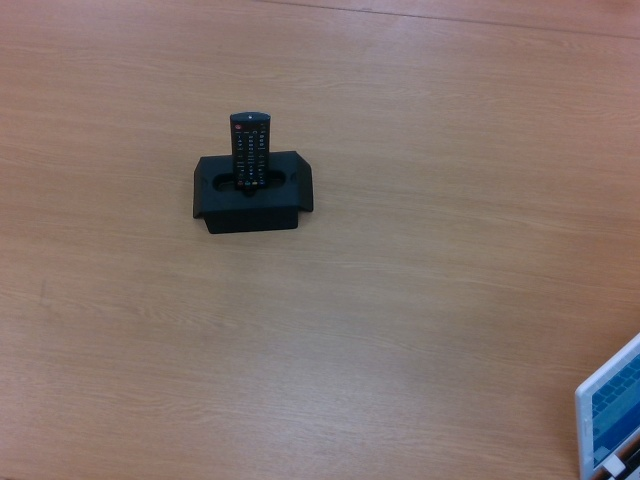remote: (230, 111, 270, 187)
